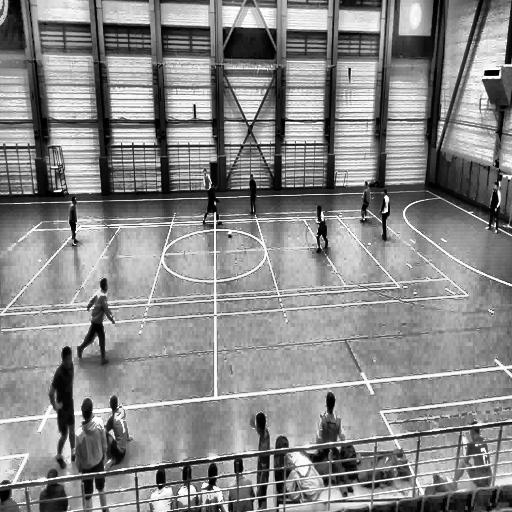ball: (225, 229, 233, 239)
player: (74, 399, 110, 511), (76, 278, 115, 363), (49, 345, 76, 465), (250, 412, 272, 508), (202, 174, 221, 227), (486, 180, 502, 233), (68, 192, 80, 246), (315, 205, 328, 253), (380, 187, 390, 240), (360, 180, 371, 221), (248, 174, 258, 216), (202, 166, 214, 198)
